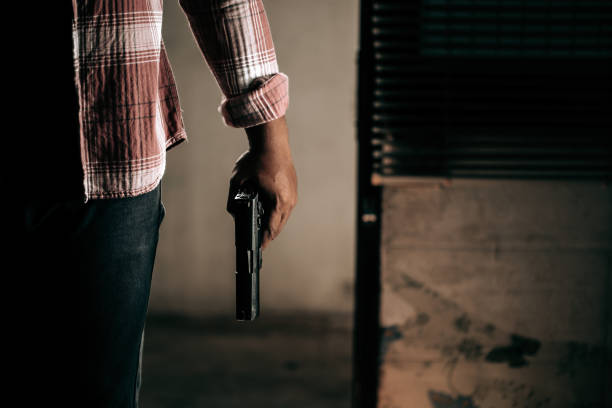gun: (225, 179, 271, 325)
